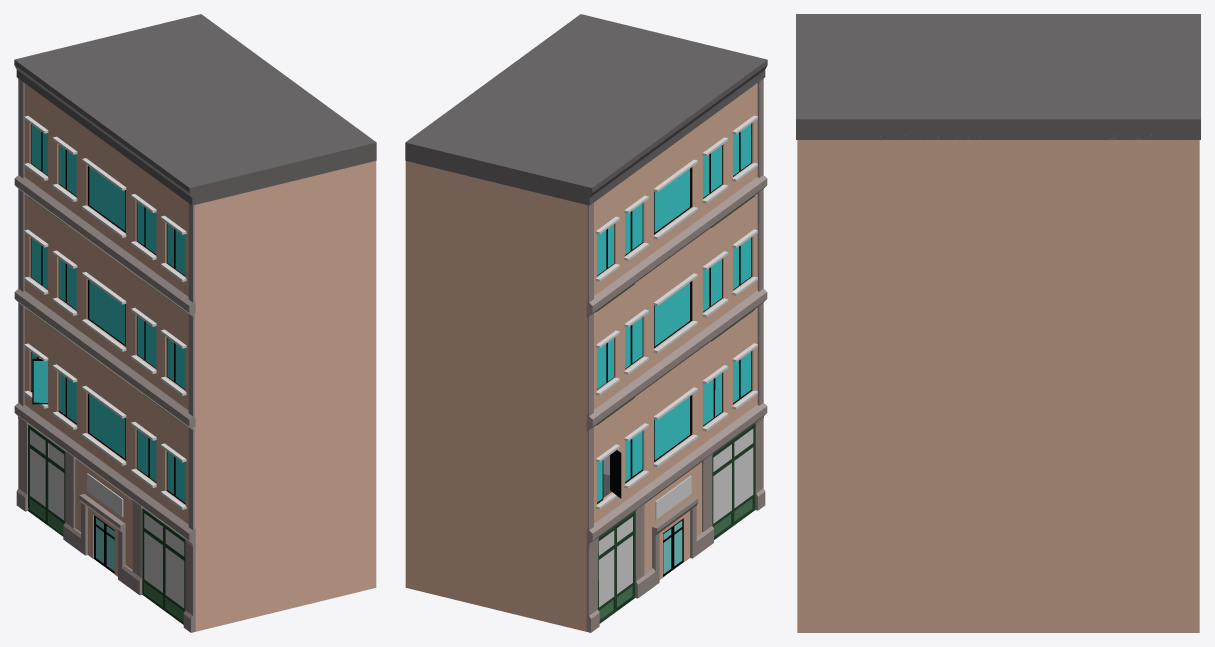
The model's file is Residential building tall.fbx.
The picture shows the model from 3 angles, left to right: view 1: azimuth 30°, elevation 25°; view 2: azimuth 150°, elevation 25°; view 3: azimuth 270°, elevation 25°; orthographic projection. The views are drawn at different scales.
Parts seen in each view (by area): view 1: Cube, Cube.025, Cube.019, Cube.027, Cube.026, Cube.010, Cube.033, Cube.007, Cube.028, Cube.023, Cube.024, Cube.030 (+12 smaller); view 2: Cube, Cube.025, Cube.019, Cube.027, Cube.026, Cube.033, Cube.010, Cube.007, Cube.028, Cube.023, Cube.024, Cube.030 (+12 smaller); view 3: Cube, Cube.019, Cube.027, Cube.025.
Boxes of the visible parts, x1,y1,x2,y2 form: Cube: (14, 302, 376, 632); Cube.025: (14, 14, 376, 205); Cube.019: (14, 189, 376, 429); Cube.027: (14, 78, 376, 316); Cube.026: (30, 429, 184, 607); Cube.010: (24, 229, 186, 395); Cube.033: (24, 116, 186, 281); Cube.007: (24, 343, 186, 509); Cube.028: (87, 166, 125, 232); Cube.023: (87, 393, 125, 460); Cube.024: (87, 279, 125, 346); Cube.030: (136, 201, 156, 255); Cube: (405, 302, 767, 632); Cube.025: (405, 14, 767, 205); Cube.019: (405, 189, 767, 431); Cube.027: (405, 78, 767, 317); Cube.026: (599, 429, 753, 607); Cube.033: (595, 115, 757, 281); Cube.010: (595, 229, 757, 395); Cube.007: (595, 343, 757, 509); Cube.028: (654, 167, 691, 234); Cube.023: (654, 395, 691, 462); Cube.024: (654, 281, 691, 348); Cube.030: (703, 145, 722, 198); Cube: (797, 397, 1199, 632); Cube.019: (797, 265, 1199, 401); Cube.027: (797, 135, 1199, 270); Cube.025: (796, 14, 1200, 139).
Size of the model in its own units: 2261 by 5025 by 3570.
